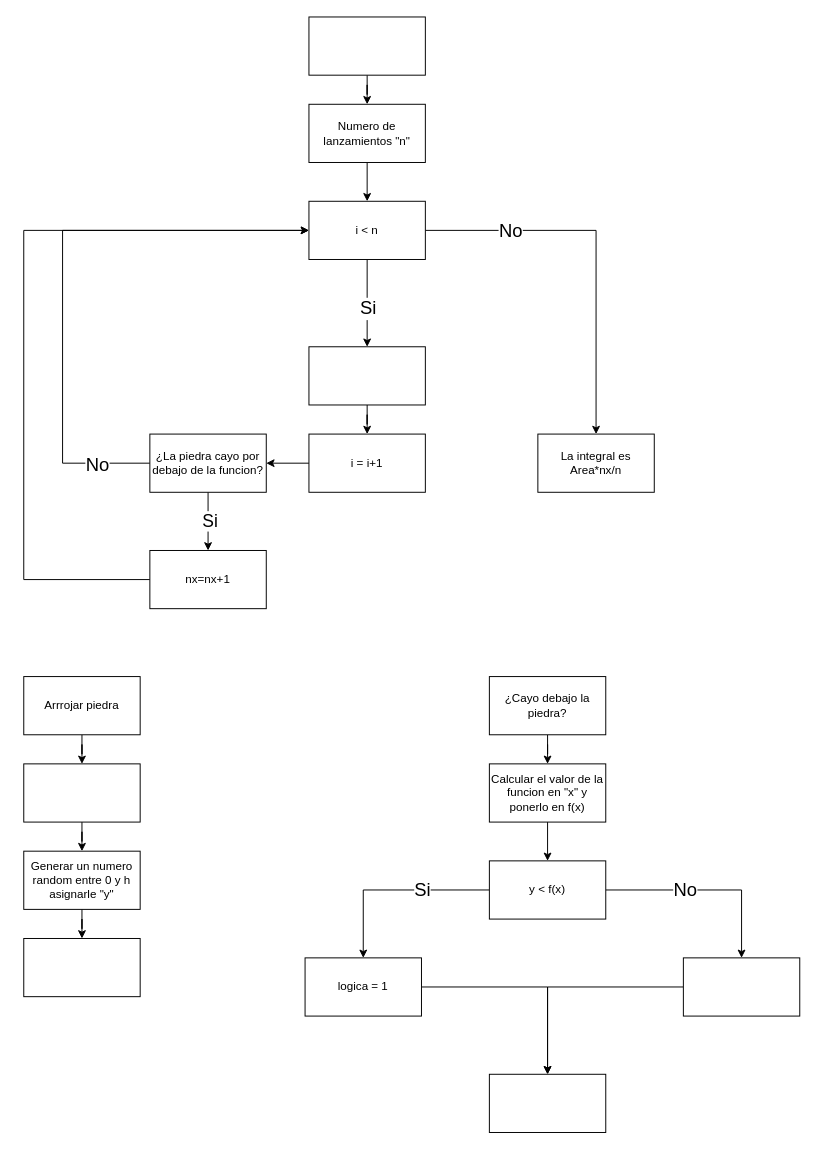
Some shapes in this 817 by 1149 pixel diagram are drawn without their labels. Here are the shapes that lost their labels. From the top down, the box of each, then its label:
(308, 16, 425, 75): Definir la funcion f(x)
(308, 346, 425, 405): Arrojar "i" piedra entre a y b para x y de 0 a h para y
(23, 763, 140, 822): Generar un numero random entre a y b asignarle "x"
(23, 938, 140, 997): Regresar los valores de "x" y "y"
(682, 957, 800, 1016): logica = 0
(488, 1073, 606, 1132): Devolver logica
